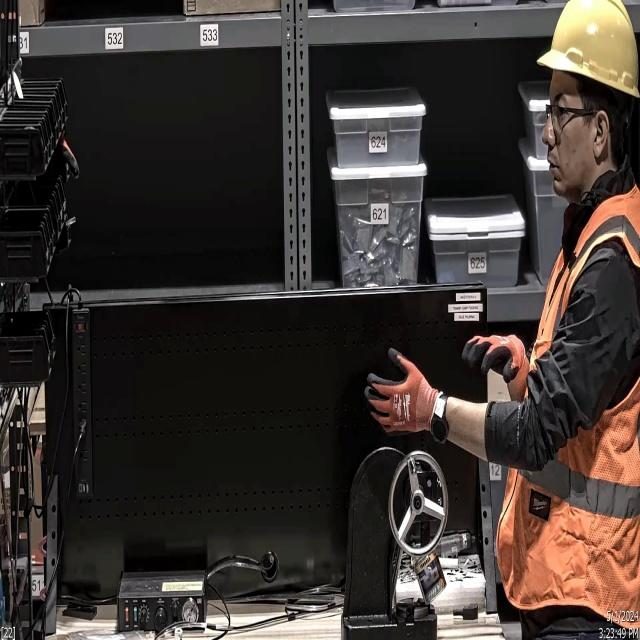construction-gloves: (359, 336, 436, 446), (462, 332, 526, 386)
